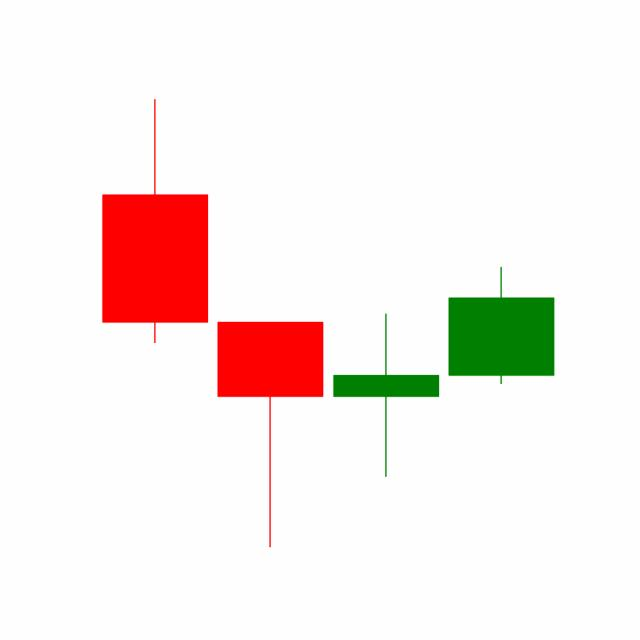Spinning Top: (328, 312, 444, 479)
